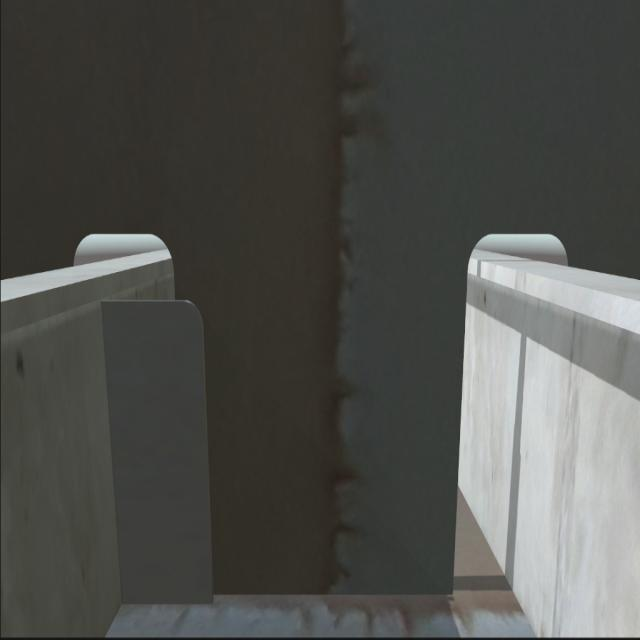fillet_yong_jeop_jang: (120, 577, 464, 612)
longi_yong_jeop_jang: (97, 294, 128, 611)
plate_CP05: (102, 306, 213, 602)
